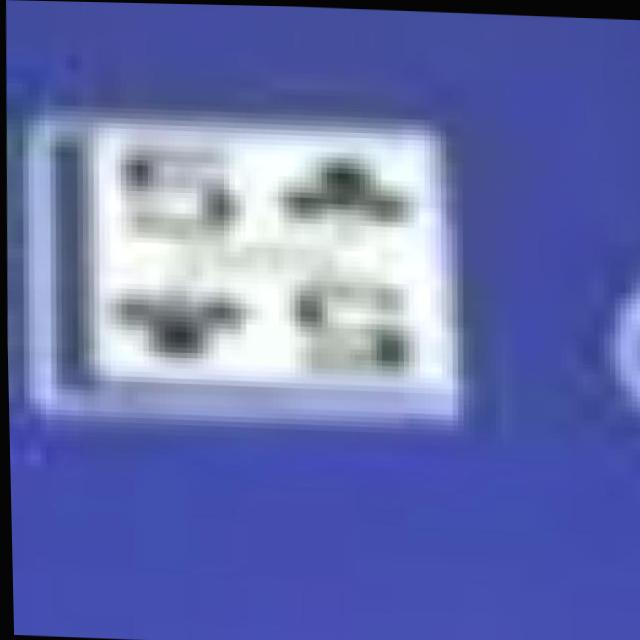Card-5: (95, 125, 448, 394)
